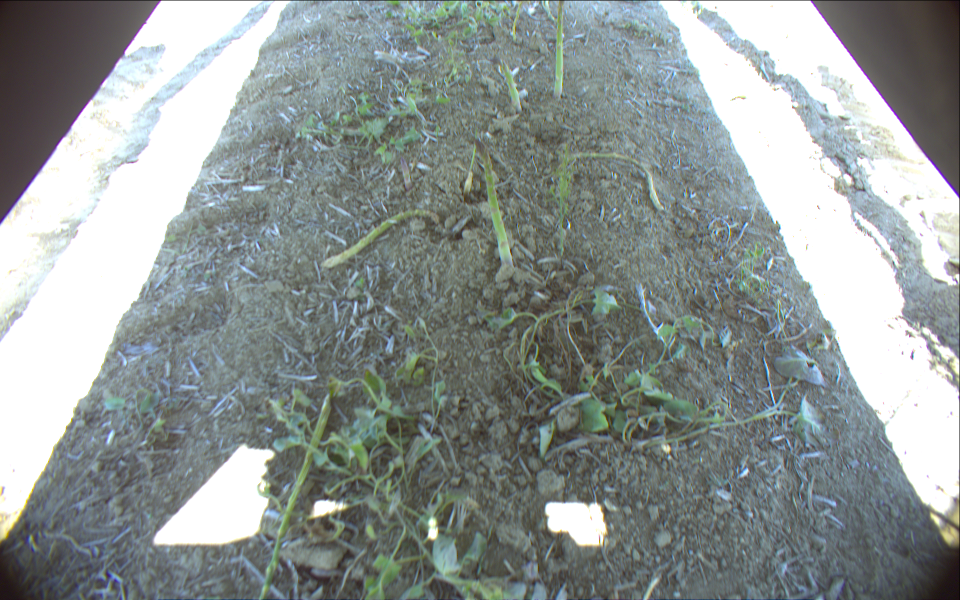aspa: (470, 135, 517, 273), (550, 1, 569, 102), (498, 57, 522, 114)
